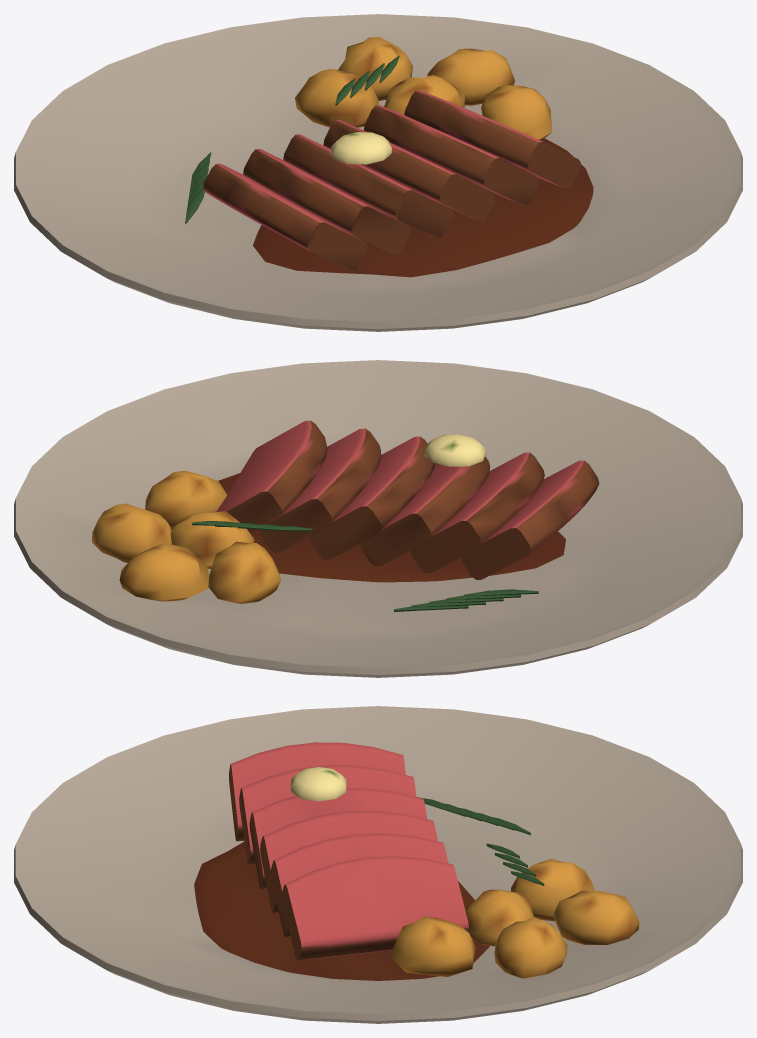
File: dish-ribeye-lod1.glb
3 renders of one model, top to bottom at view 1: azimuth 30°, elevation 25°; view 2: azimuth 150°, elevation 25°; view 3: azimuth 270°, elevation 25°, orthographic.
Parts seen in each view (by area): view 1: ribeye.lod1__table warm glaze, ribeye.lod1__food, ribeye.lod1__food glaze; view 2: ribeye.lod1__table warm glaze, ribeye.lod1__food, ribeye.lod1__food glaze; view 3: ribeye.lod1__table warm glaze, ribeye.lod1__food, ribeye.lod1__food glaze.
Boxes of the visible parts, bbox=[...] form: ribeye.lod1__table warm glaze: bbox=[14, 14, 742, 331]; ribeye.lod1__food: bbox=[185, 37, 580, 270]; ribeye.lod1__food glaze: bbox=[253, 132, 593, 277]; ribeye.lod1__table warm glaze: bbox=[14, 360, 742, 677]; ribeye.lod1__food: bbox=[92, 420, 599, 611]; ribeye.lod1__food glaze: bbox=[170, 434, 565, 582]; ribeye.lod1__table warm glaze: bbox=[14, 706, 742, 1023]; ribeye.lod1__food: bbox=[229, 742, 639, 978]; ribeye.lod1__food glaze: bbox=[194, 767, 489, 980].
Bounding box in the file's own units: 0.27 × 0.05 × 0.2685.
